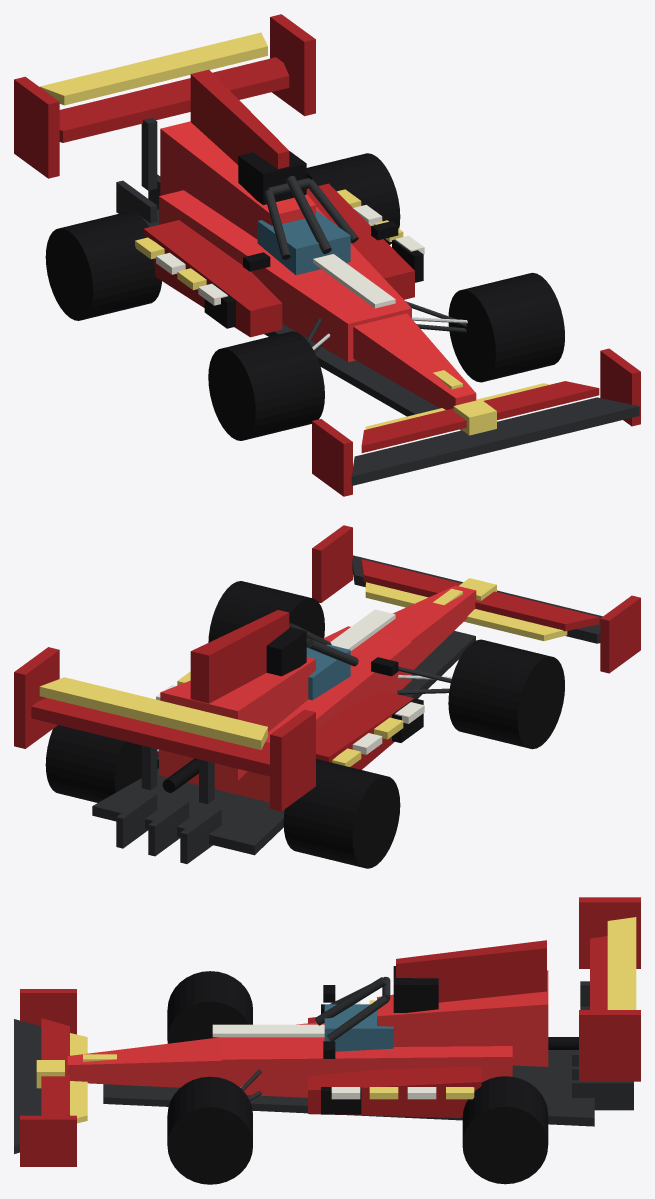
Rendered from warning_red_racer.glb.
The picture shows the model from 3 angles, top to bottom: view 1: azimuth 30°, elevation 25°; view 2: azimuth 150°, elevation 25°; view 3: azimuth 270°, elevation 25°; orthographic projection. The views are drawn at different scales.
Visible parts, largest first — view 1: Main_Monocoque, RedF1_Tire_-1_1.28, RedF1_Tire_1_1.28, RedF1_Tire_-1_-1.2, Front_Wing_Mainplane, Engine_Cover, Rear_Wing_Mainplane, Left_Sidepod, Long_Nose_Cone, Rear_Wing_Top_Flap, Shark_Fin, Front_Wing_Upper_Flap (+17 smaller); view 2: RedF1_Tire_-1_1.28, RedF1_Tire_-1_-1.2, Carbon_Floor, Main_Monocoque, Rear_Wing_Mainplane, RedF1_Tire_1_-1.2, Rear_Wing_Top_Flap, Engine_Cover, Shark_Fin, Front_Wing_Upper_Flap, RedF1_Tire_1_1.28, Rear_Left_Endplate (+18 smaller); view 3: Main_Monocoque, Engine_Cover, RedF1_Tire_1_1.28, RedF1_Tire_1_-1.2, Shark_Fin, Carbon_Floor, Right_Sidepod, Long_Nose_Cone, RedF1_Tire_-1_1.28, Rear_Right_Endplate, Front_Right_Endplate, Rear_Wing_Top_Flap (+14 smaller).
Part boxes in pixels (left/top/right/bottom): Main_Monocoque: left=159, top=190, right=411, bottom=362; RedF1_Tire_-1_1.28: left=208, top=331, right=324, bottom=440; RedF1_Tire_1_1.28: left=448, top=272, right=564, bottom=382; RedF1_Tire_-1_-1.2: left=45, top=211, right=161, bottom=320; Front_Wing_Mainplane: left=351, top=397, right=639, bottom=485; Engine_Cover: left=160, top=121, right=315, bottom=239; Rear_Wing_Mainplane: left=59, top=57, right=289, bottom=142; Left_Sidepod: left=143, top=220, right=282, bottom=337; Long_Nose_Cone: left=353, top=313, right=476, bottom=409; Rear_Wing_Top_Flap: left=39, top=32, right=267, bottom=105; Shark_Fin: left=190, top=69, right=289, bottom=168; Front_Wing_Upper_Flap: left=361, top=381, right=599, bottom=452; RedF1_Tire_-1_1.28: left=448, top=639, right=564, bottom=749; RedF1_Tire_-1_-1.2: left=283, top=759, right=400, bottom=868; Carbon_Floor: left=92, top=631, right=475, bottom=855; Main_Monocoque: left=159, top=626, right=411, bottom=802; Rear_Wing_Mainplane: left=31, top=698, right=269, bottom=776; RedF1_Tire_1_-1.2: left=45, top=725, right=158, bottom=802; Rear_Wing_Top_Flap: left=39, top=677, right=267, bottom=749; Engine_Cover: left=160, top=657, right=315, bottom=780; Shark_Fin: left=190, top=610, right=289, bottom=703; Front_Wing_Upper_Flap: left=361, top=559, right=599, bottom=631; RedF1_Tire_1_1.28: left=208, top=581, right=324, bottom=642; Rear_Left_Endplate: left=270, top=709, right=315, bottom=811; Main_Monocoque: left=222, top=1022, right=512, bottom=1097; Engine_Cover: left=377, top=970, right=548, bottom=1066; RedF1_Tire_1_1.28: left=167, top=1076, right=252, bottom=1184; RedF1_Tire_1_-1.2: left=462, top=1076, right=548, bottom=1184; Shark_Fin: left=396, top=940, right=546, bottom=1002; Carbon_Floor: left=103, top=1050, right=594, bottom=1126; Right_Sidepod: left=308, top=1066, right=481, bottom=1117; Long_Nose_Cone: left=67, top=1037, right=222, bottom=1087; RedF1_Tire_-1_1.28: left=167, top=971, right=252, bottom=1043; Rear_Right_Endplate: left=579, top=1010, right=640, bottom=1081; Front_Right_Endplate: left=20, top=1115, right=76, bottom=1166; Rear_Wing_Top_Flap: left=607, top=917, right=636, bottom=1009.
Bounding box in the file's own units: 2.71 × 1.6 × 5.27.
